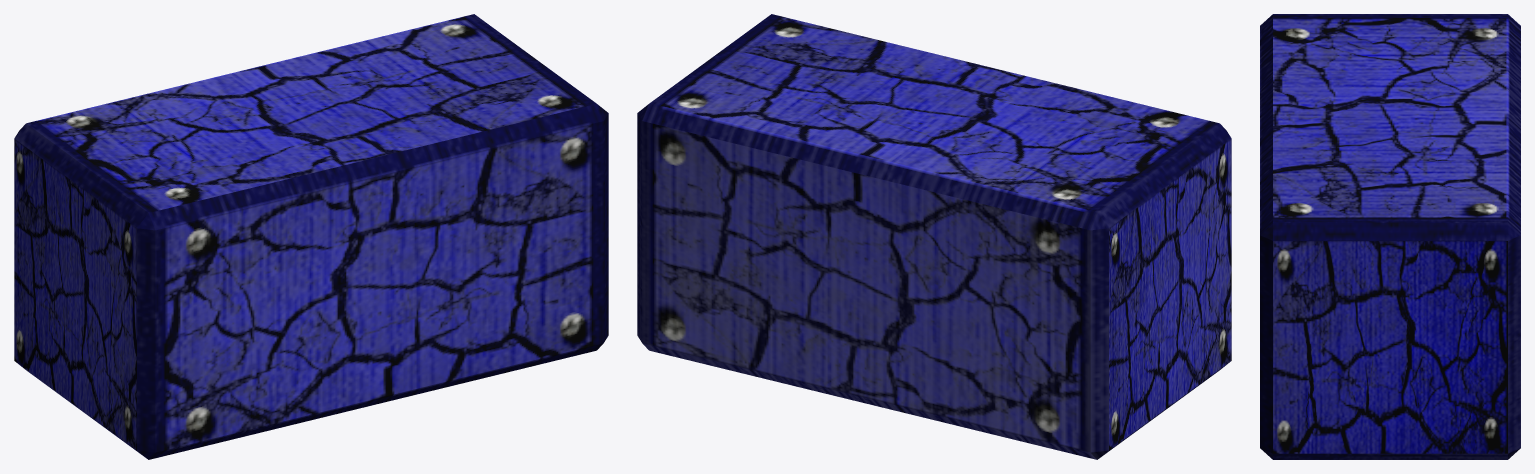
Rendered from Box_1_2x1x1_blue_c.obj.
3 renders of one model, left to right at view 1: azimuth 30°, elevation 25°; view 2: azimuth 150°, elevation 25°; view 3: azimuth 270°, elevation 25°, orthographic. The views are drawn at different scales.
Visible parts, largest first — view 1: default; view 2: default; view 3: default.
Boxes of the visible parts, <box> form: default: <box>14,14,608,459</box>; default: <box>637,14,1231,459</box>; default: <box>1260,14,1520,459</box>.
Size of the model in its own units: 2 by 1 by 1.
